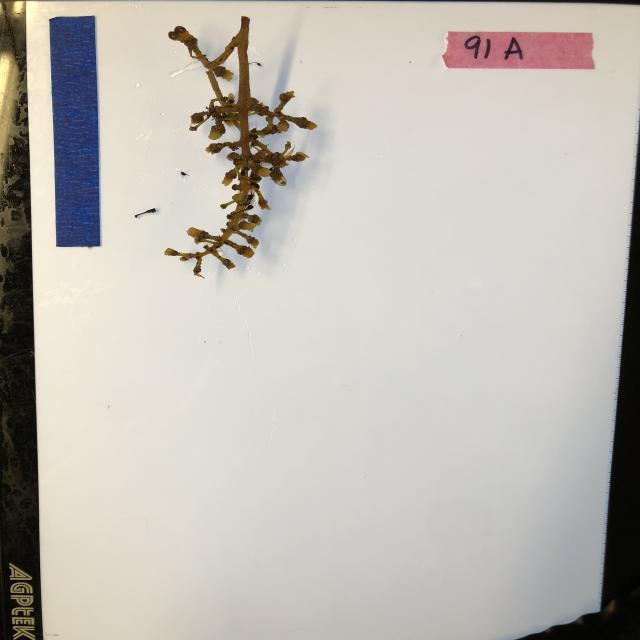index: (442, 30, 598, 70)
measure_label: (47, 14, 102, 248)
rachis_cluster: (166, 15, 318, 281)
